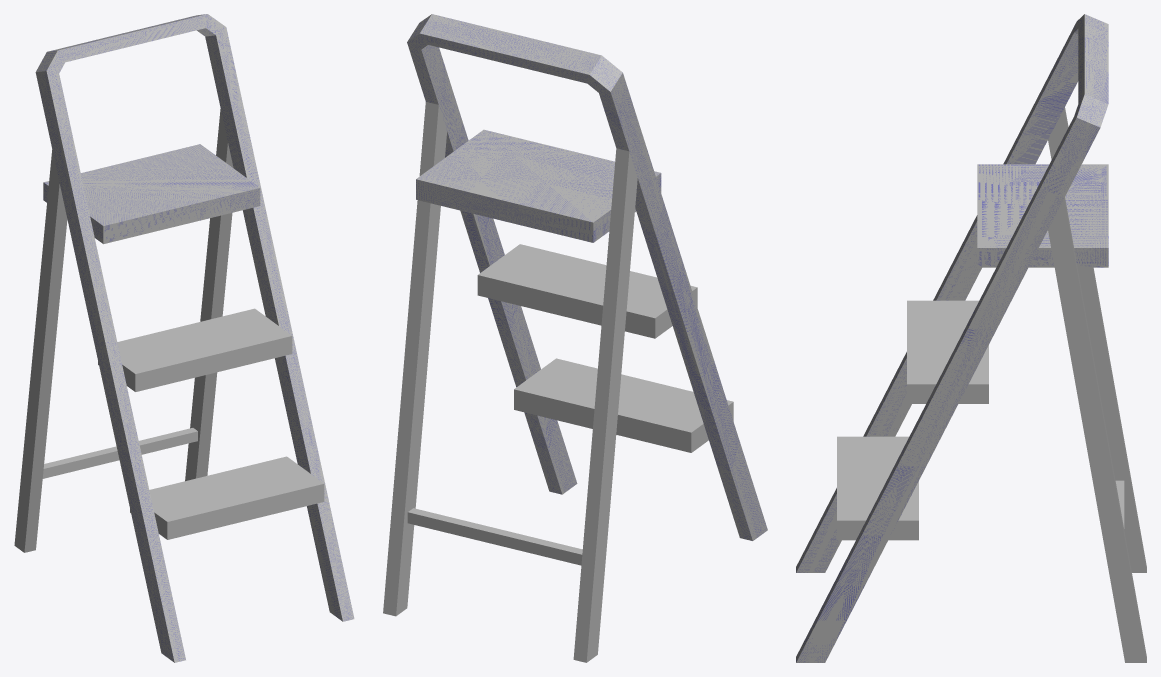
Rendered from step-ladder2.dae.
The picture shows the model from 3 angles, left to right: view 1: azimuth 30°, elevation 25°; view 2: azimuth 150°, elevation 25°; view 3: azimuth 270°, elevation 25°; orthographic projection. The views are drawn at different scales.
Visible parts, largest first — view 1: SketchUp (×2), Component_2 (×2), Component_1 (×2), Component_3; view 2: SketchUp (×2), Component_1 (×2), Component_2 (×2), Component_3; view 3: SketchUp (×2), Component_1 (×2), Component_2 (×2).
Part boxes in pixels (x1,y1,x2,y2): SketchUp (×2): (35, 14, 354, 662); Component_2 (×2): (98, 308, 324, 539); Component_1 (×2): (14, 109, 233, 552); Component_3: (42, 428, 197, 478); SketchUp (×2): (407, 14, 767, 540); Component_1 (×2): (383, 102, 637, 662); Component_2 (×2): (477, 244, 733, 452); Component_3: (407, 508, 582, 565); SketchUp (×2): (796, 14, 1108, 662); Component_1 (×2): (1048, 107, 1146, 662); Component_2 (×2): (837, 300, 988, 540).
Bounding box in the file's own units: 15.62 × 24.11 × 42.53.
